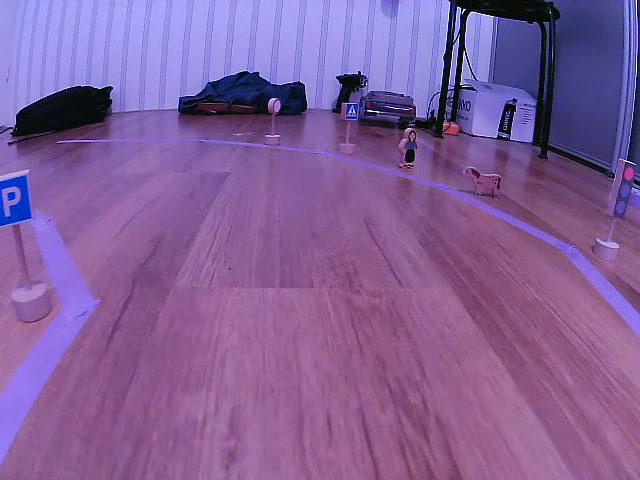mens: (398, 126, 419, 170)
paard: (460, 164, 504, 201)
roodlicht: (615, 159, 634, 217)
zebrapad: (343, 103, 359, 120)
